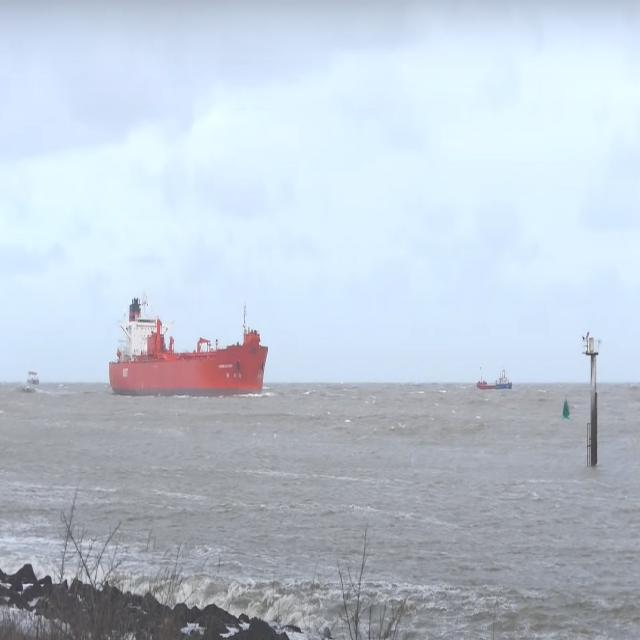ship: (103, 278, 273, 417), (474, 358, 518, 404), (21, 363, 45, 403)
